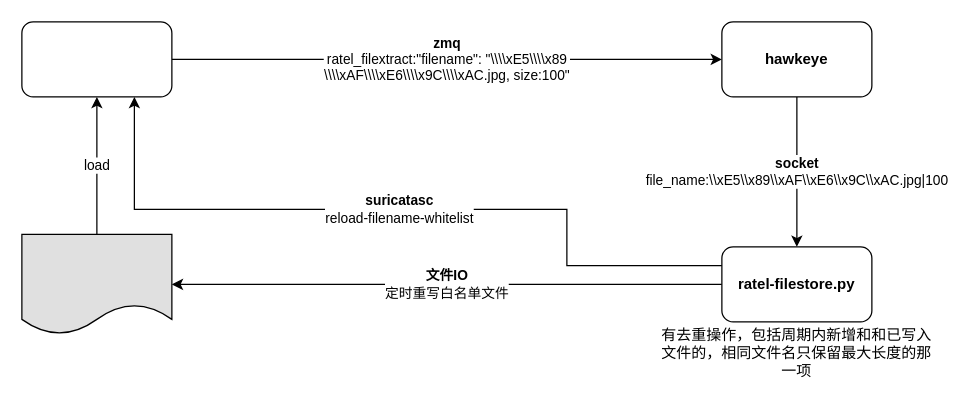
Some shapes in this 970 by 401 pixel diagram are drawn without their labels. The centre of each missing label's shape, as x and y in pixels:
"filename-whitelist" belongs at (96,283).
"ratel" belongs at (96,59).
